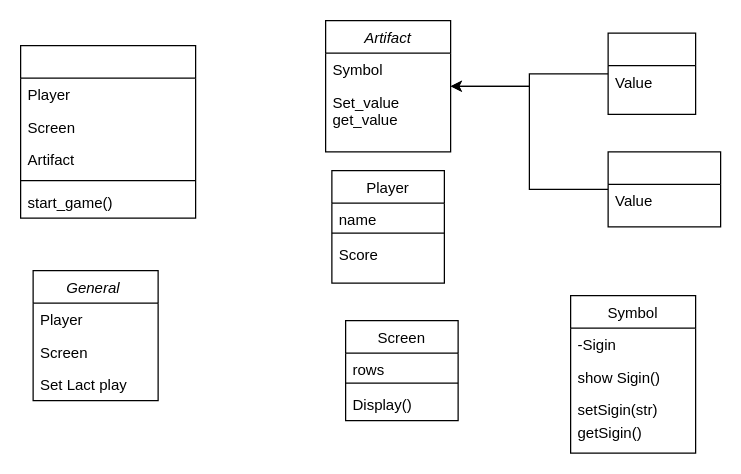
This 741x474 diagram has some shape labels left out. Each missing label, with the box of its shape:
Gems: (607, 32, 696, 114)
Greed: (19, 44, 196, 218)
Rocks: (607, 151, 721, 227)
